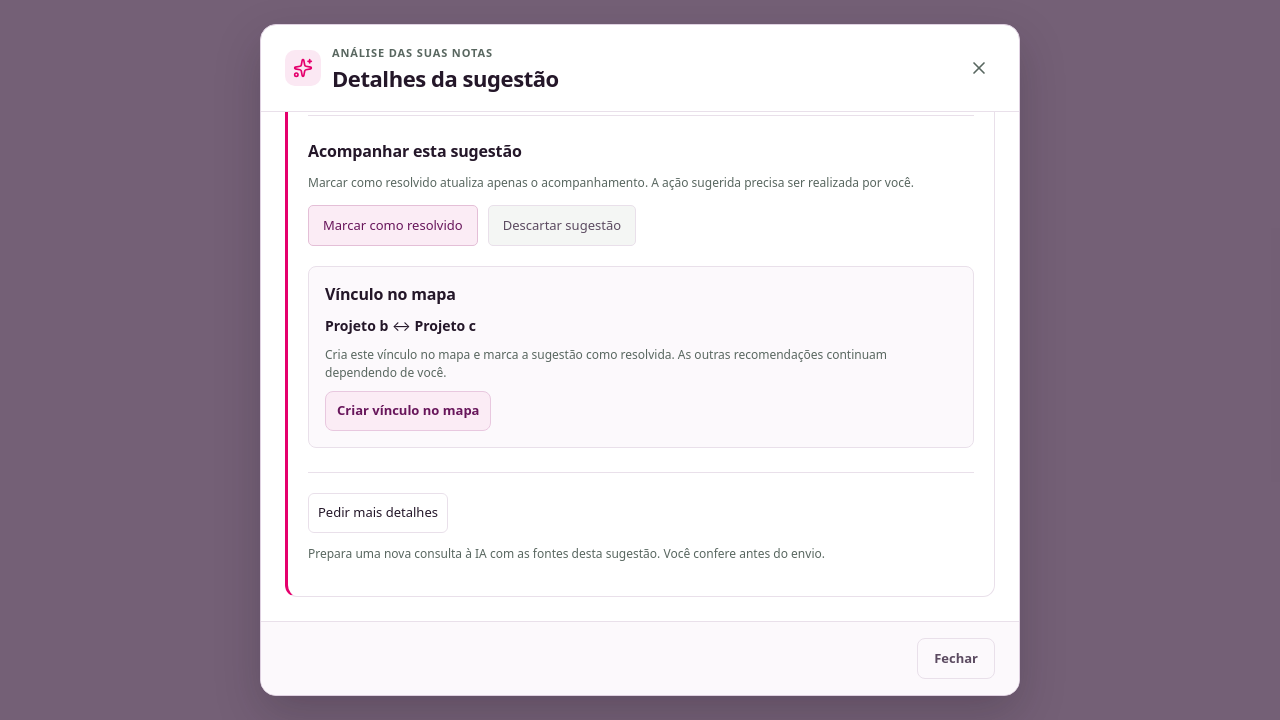
Test: analysis decisions and recovery › reads the current connection pair before offering acceptance of an older report
(page scrolled)
Expected: the element with class "connection-preview" shows "Projeto b ↔ Projeto c", top-left (308, 266), bottom-right (974, 448)
Click the button "Criar vínculo no mapa" at (408, 411), box top-left (325, 391), bottom-right (492, 431)
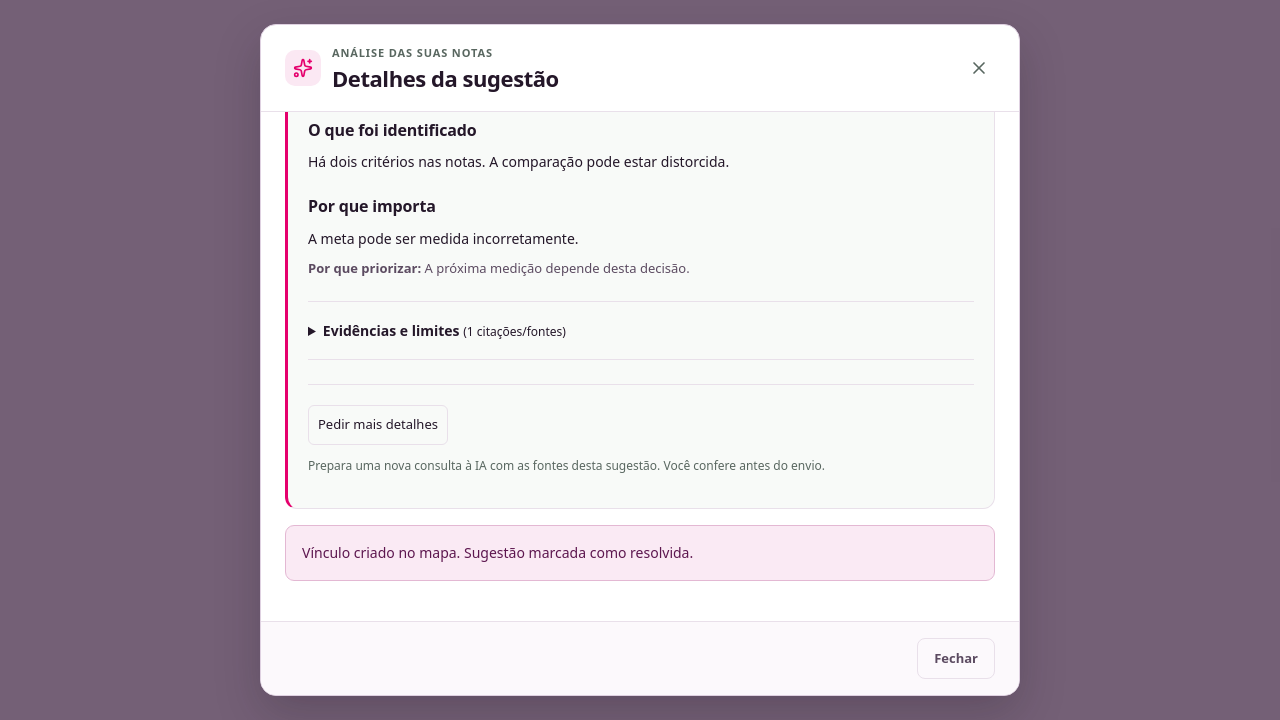
Result: the text "Vínculo criado no mapa. Sugestão marcada como resolvida." is shown at top-left (285, 524), bottom-right (995, 581)
